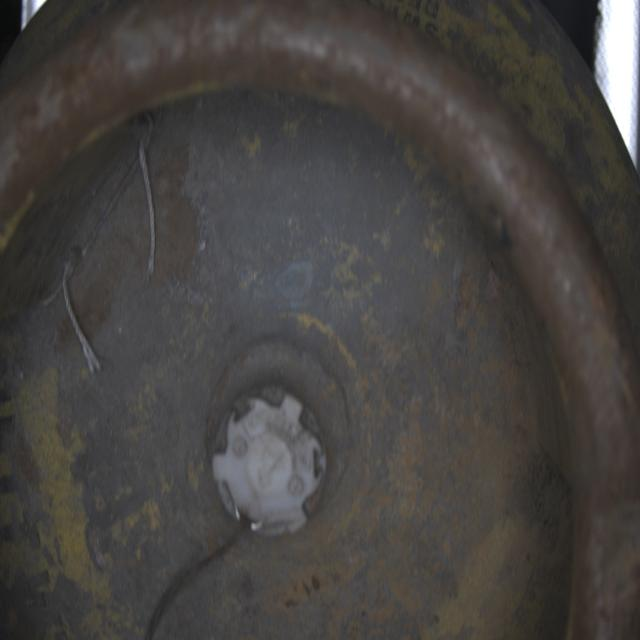Cap: (212, 394, 328, 539)
